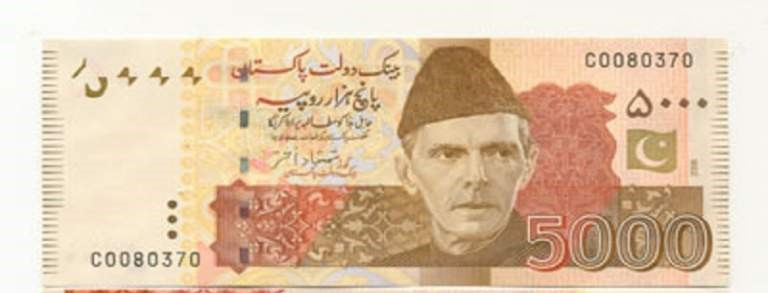5000 rupee: (41, 33, 717, 285)
